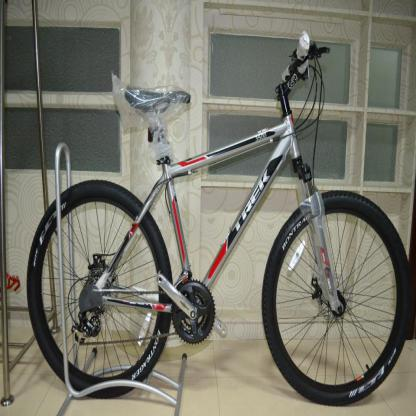bicycle: (24, 25, 409, 405)
